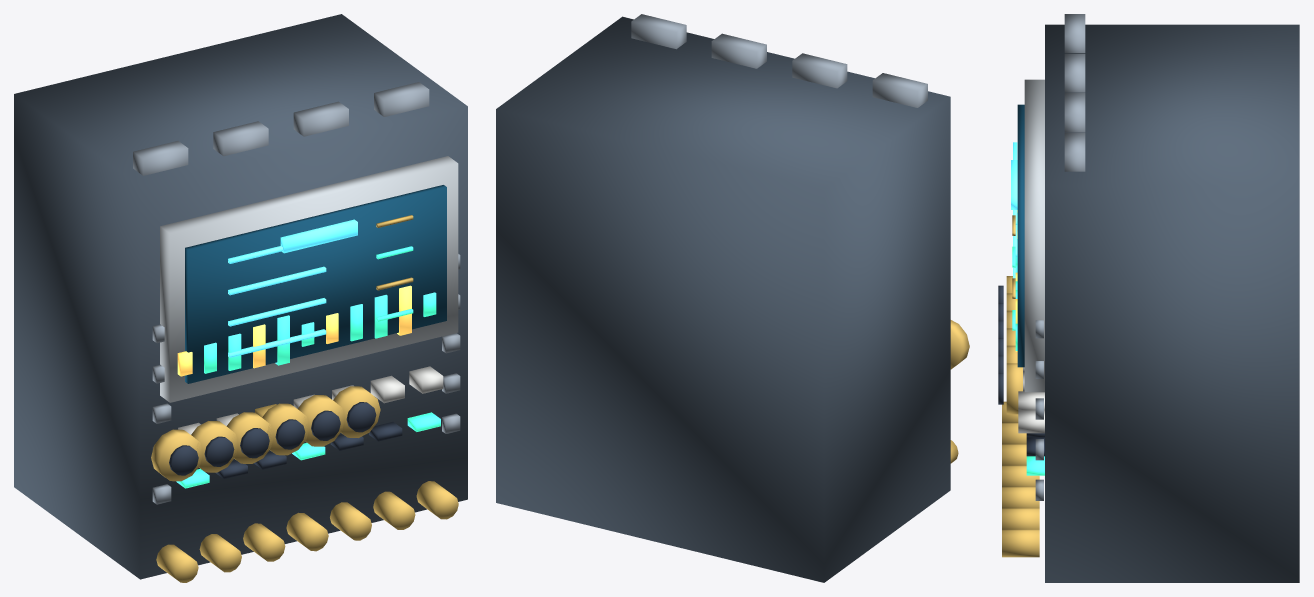
File: 45_L87_VibrationFrequencySpectrumAnalyzer.glb
3 renders of one model, left to right at view 1: azimuth 30°, elevation 25°; view 2: azimuth 150°, elevation 25°; view 3: azimuth 270°, elevation 25°, orthographic.
Visible parts, largest first — view 1: L87_VibrationFrequencySpectru_Part_0000, L87_VibrationFrequencySpectru_Part_0002, L87_VibrationFrequencySpectru_Part_0001, L87_VibrationFrequencySpectru_Part_0004, L87_VibrationFrequencySpectru_Part_0009, L87_VibrationFrequencySpectru_Part_0012, L87_VibrationFrequencySpectru_Part_0008, L87_VibrationFrequencySpectru_Part_0003, L87_VibrationFrequencySpectru_Part_0006, L87_VibrationFrequencySpectru_Part_0011, L87_VibrationFrequencySpectru_Part_0005, L87_VibrationFrequencySpectru_Part_0007 (+13 smaller); view 2: L87_VibrationFrequencySpectru_Part_0000, L87_VibrationFrequencySpectru_Part_0009, L87_VibrationFrequencySpectru_Part_0013; view 3: L87_VibrationFrequencySpectru_Part_0000, L87_VibrationFrequencySpectru_Part_0001, L87_VibrationFrequencySpectru_Part_0004, L87_VibrationFrequencySpectru_Part_0009, L87_VibrationFrequencySpectru_Part_0002, L87_VibrationFrequencySpectru_Part_0006, L87_VibrationFrequencySpectru_Part_0008, L87_VibrationFrequencySpectru_Part_0023, L87_VibrationFrequencySpectru_Part_0005.
Boxes of the visible parts, x1,y1,x2,y2 form: L87_VibrationFrequencySpectru_Part_0000: [14, 14, 467, 579]; L87_VibrationFrequencySpectru_Part_0002: [185, 185, 446, 383]; L87_VibrationFrequencySpectru_Part_0001: [160, 156, 458, 402]; L87_VibrationFrequencySpectru_Part_0004: [156, 215, 458, 582]; L87_VibrationFrequencySpectru_Part_0009: [133, 82, 429, 175]; L87_VibrationFrequencySpectru_Part_0012: [204, 292, 436, 373]; L87_VibrationFrequencySpectru_Part_0008: [152, 254, 460, 504]; L87_VibrationFrequencySpectru_Part_0003: [228, 246, 326, 357]; L87_VibrationFrequencySpectru_Part_0006: [178, 366, 443, 434]; L87_VibrationFrequencySpectru_Part_0011: [177, 285, 411, 376]; L87_VibrationFrequencySpectru_Part_0005: [176, 246, 440, 488]; L87_VibrationFrequencySpectru_Part_0007: [215, 422, 402, 478]; L87_VibrationFrequencySpectru_Part_0000: [496, 16, 950, 582]; L87_VibrationFrequencySpectru_Part_0009: [631, 14, 927, 107]; L87_VibrationFrequencySpectru_Part_0013: [950, 320, 969, 369]; L87_VibrationFrequencySpectru_Part_0000: [1045, 24, 1299, 582]; L87_VibrationFrequencySpectru_Part_0001: [1024, 79, 1044, 392]; L87_VibrationFrequencySpectru_Part_0004: [1002, 215, 1039, 557]; L87_VibrationFrequencySpectru_Part_0009: [1064, 14, 1085, 171]; L87_VibrationFrequencySpectru_Part_0002: [1017, 104, 1024, 367]; L87_VibrationFrequencySpectru_Part_0006: [1018, 367, 1044, 433]; L87_VibrationFrequencySpectru_Part_0008: [1035, 320, 1043, 500]; L87_VibrationFrequencySpectru_Part_0023: [1006, 363, 1022, 414]; L87_VibrationFrequencySpectru_Part_0005: [1012, 246, 1044, 475].
Bounding box in the file's own units: 0.9695 × 1.16 × 0.765.
